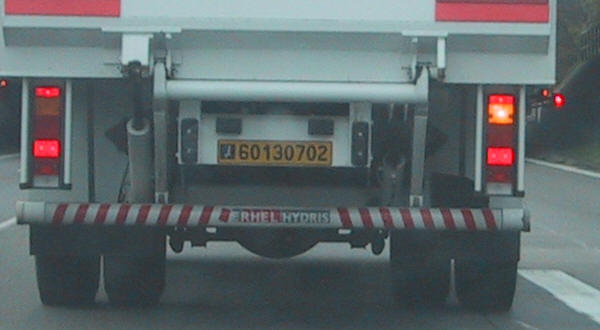license_plate: (217, 139, 333, 167)
